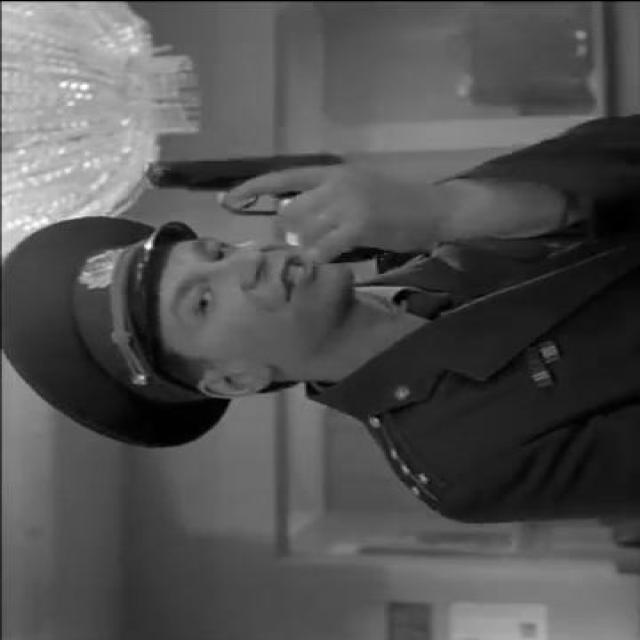weapons: (122, 136, 410, 270)
